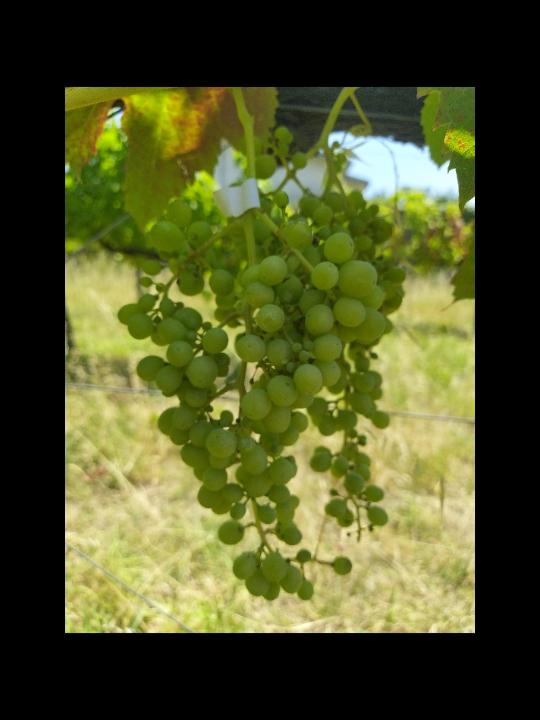grape: (113, 191, 385, 602)
